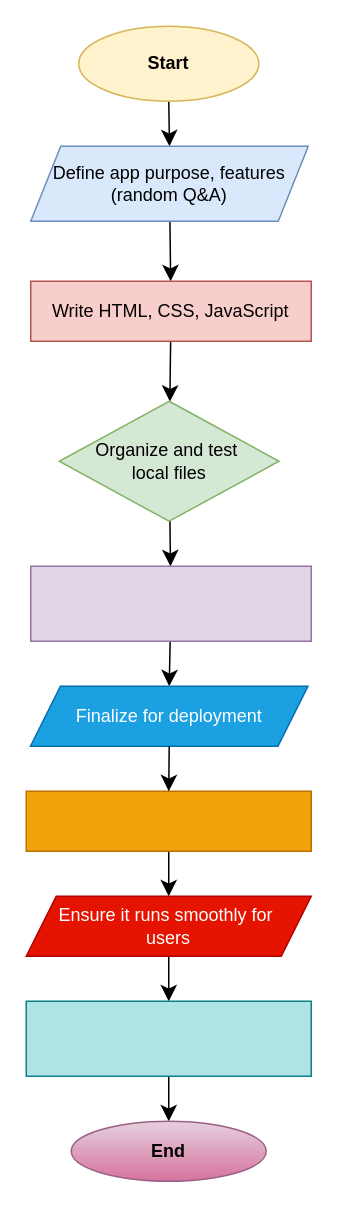
The diagram is 338 pixels wide and 1208 high, and some of its shapes have lost their labels. The centre of each missing label's shape, as x and y in pixels:
"Get feedback and improve questions or UI" belongs at point 168,1038.
"Host using GitHub+Vercel" belongs at point 168,820.
"Try question generation and input" belongs at point 170,603.
